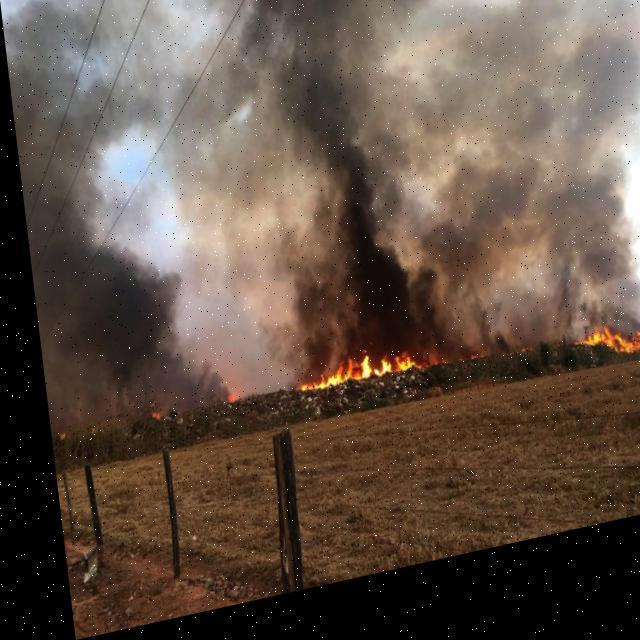Fire: (286, 351, 406, 412), (569, 339, 639, 396), (138, 404, 150, 424), (216, 397, 227, 410)
